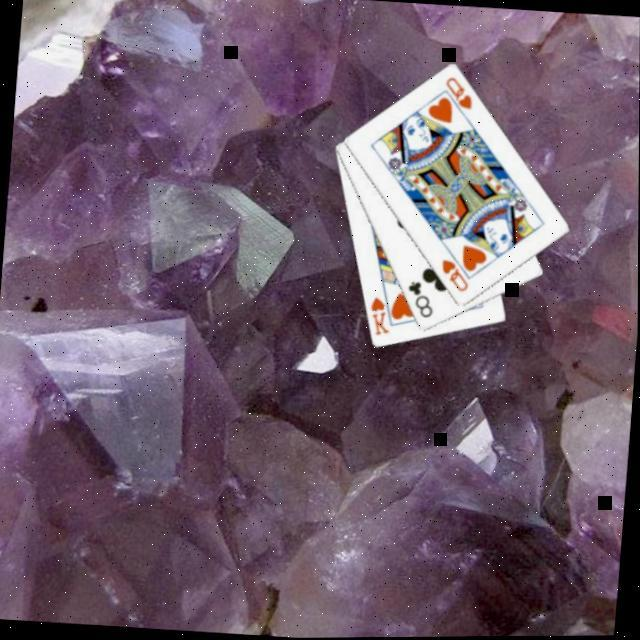8C: (403, 279, 438, 323)
KH: (365, 296, 394, 342)
QH: (438, 76, 477, 124), (437, 258, 474, 298)
